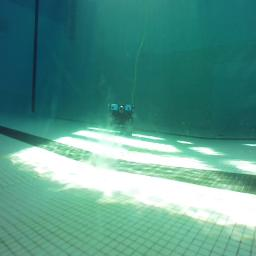front: (108, 104, 135, 124)
